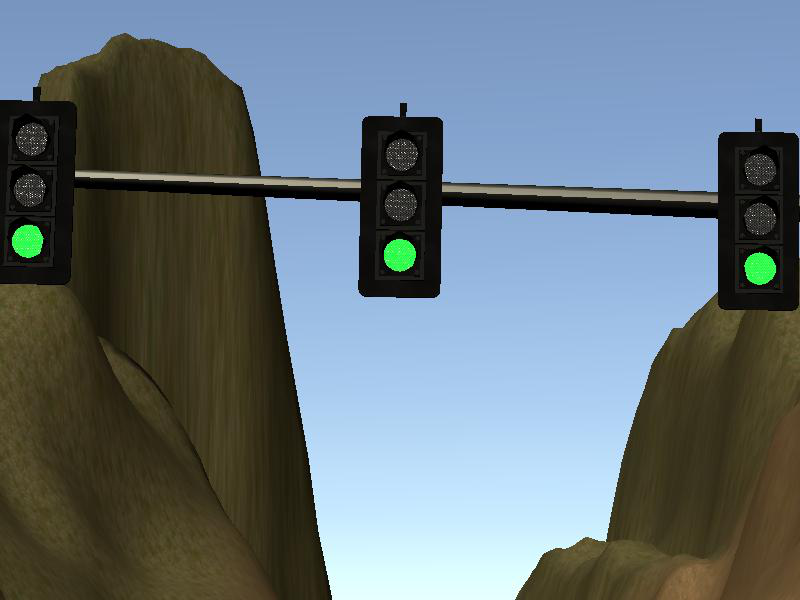green: (361, 116, 445, 298), (717, 133, 800, 310), (1, 105, 72, 286)
